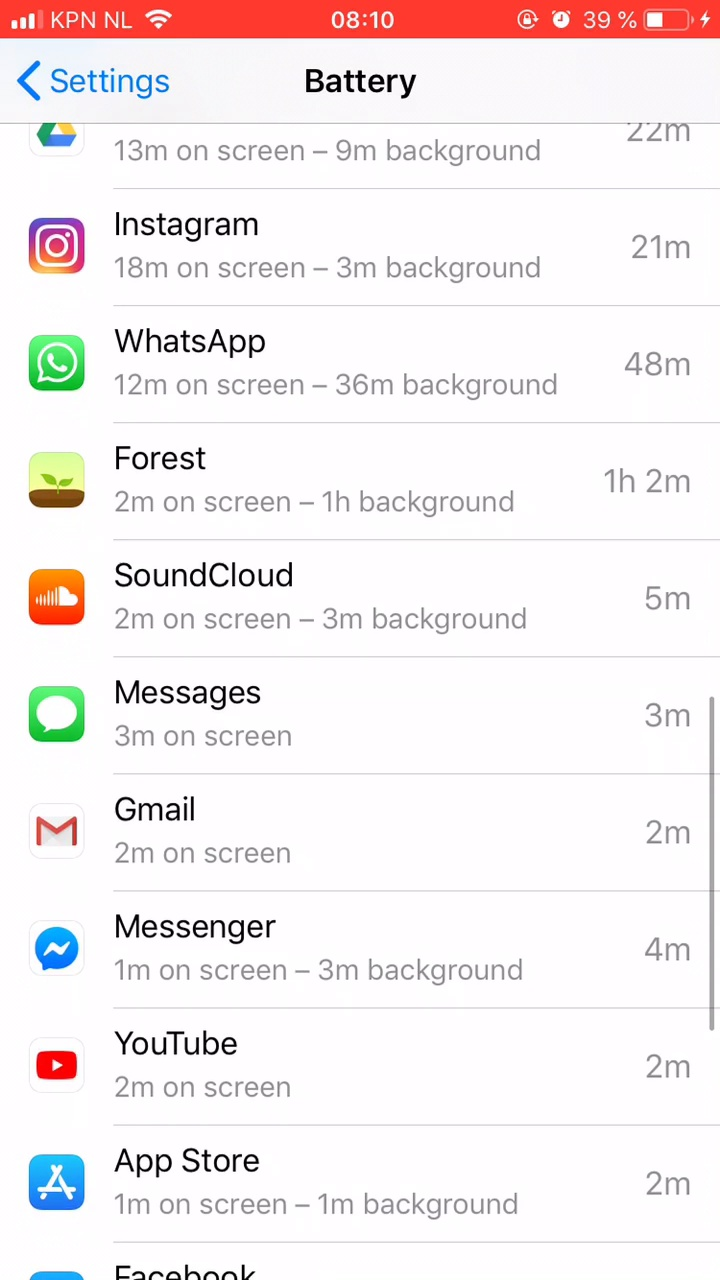app: (24, 196, 700, 283), (27, 322, 703, 409), (25, 432, 701, 519), (28, 550, 704, 637), (24, 674, 700, 761), (20, 784, 696, 871), (22, 902, 698, 989), (22, 1021, 698, 1108), (22, 1144, 698, 1231)
